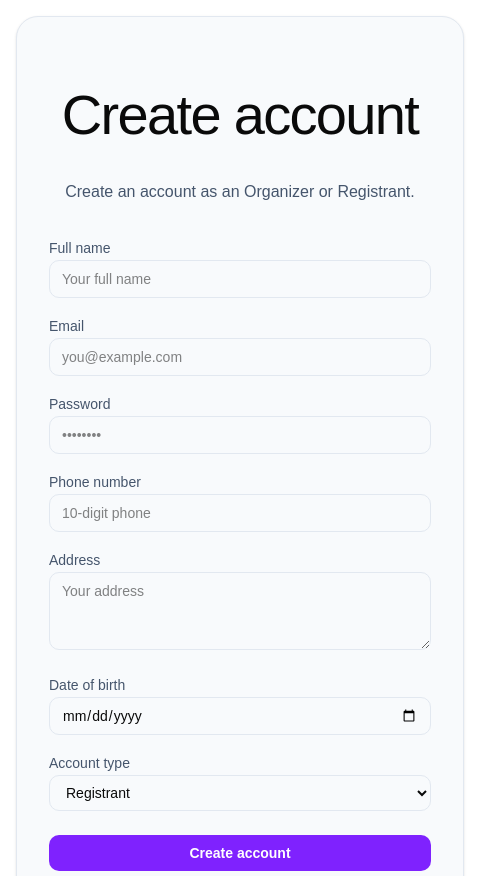
Scenario: RegisterPage Component › should show Zod validation errors on invalid inputs
Click the button "Create account": (240, 853) [49,835,431,871]
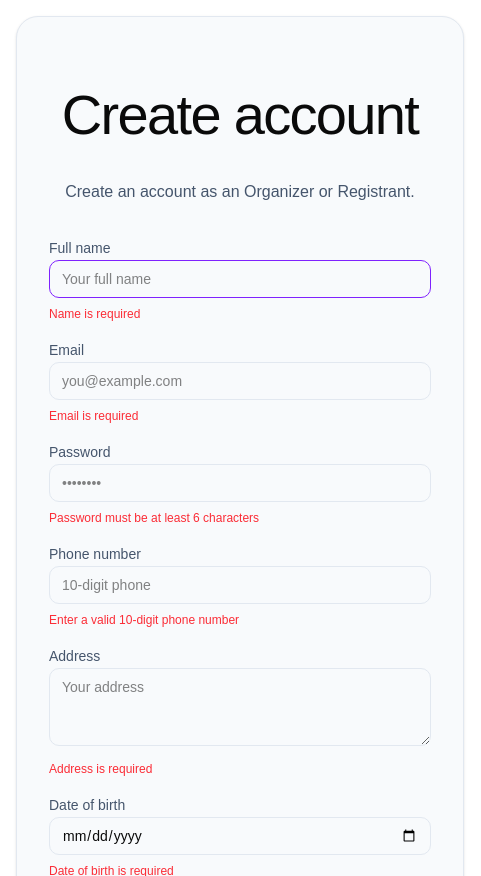
Now the text "Name is required" is shown, box [49,307,140,321]
Now the text "Password must be at least 6 characters" is shown, box [49,511,259,525]
